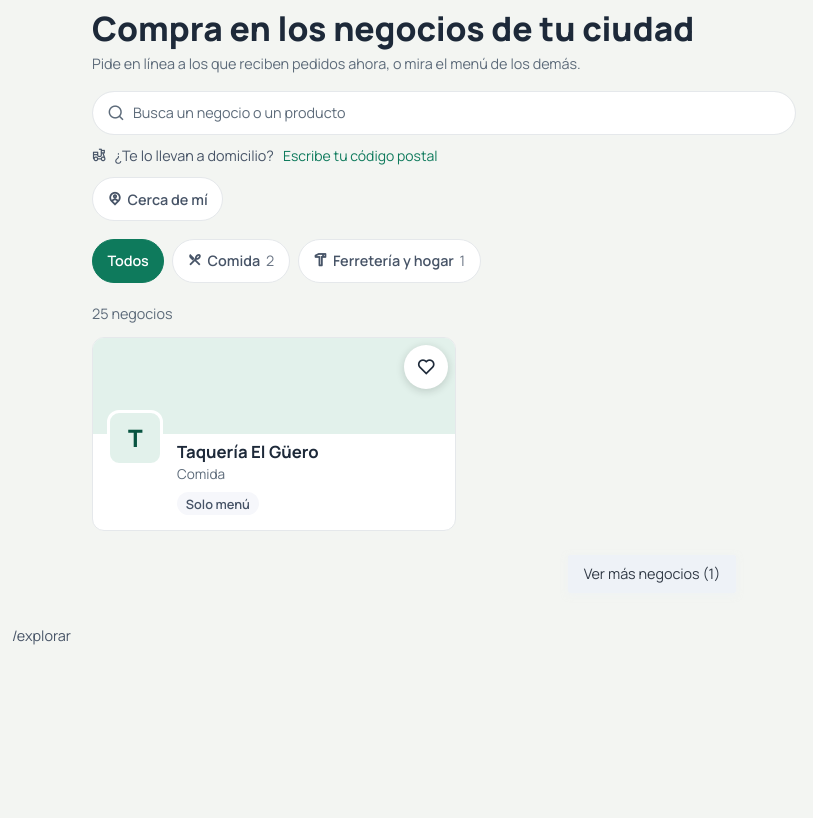
Test case: ExplorePage › loads the next businesses on request
The image size is (813, 818).
Click the button "Ver más negocios (1)": x=652, y=574 [568,555,736,593]
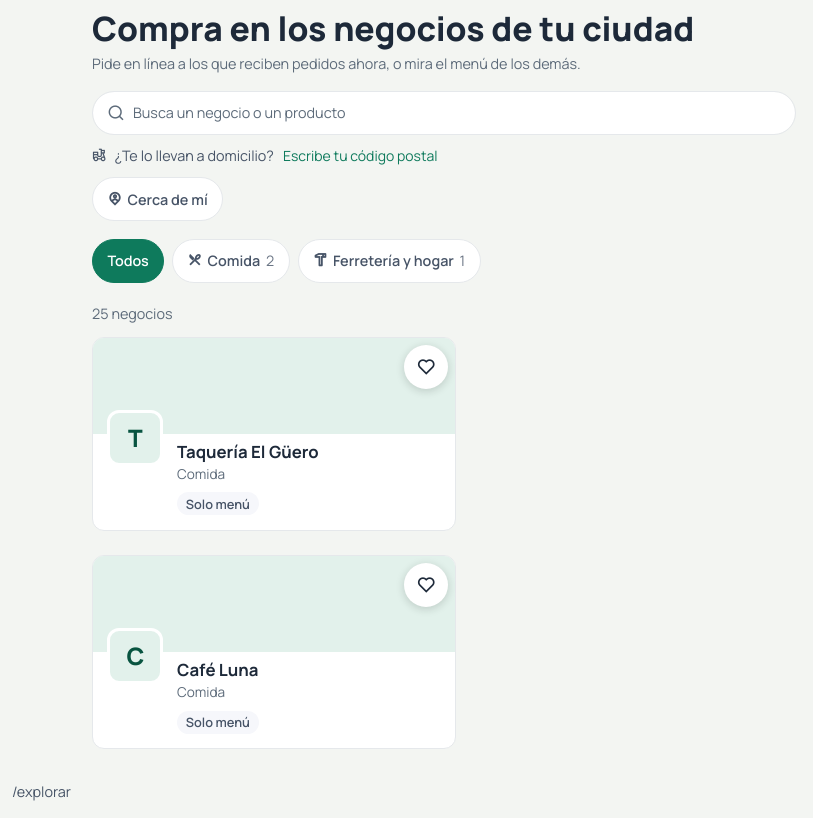
Check: the link "T Taquería El Güero Comida Solo menú" is shown, box [92,337,456,531]
Check: the link "C Café Luna Comida Solo menú" is shown, box [92,555,456,749]
Check: the button "Ver más" is gone
